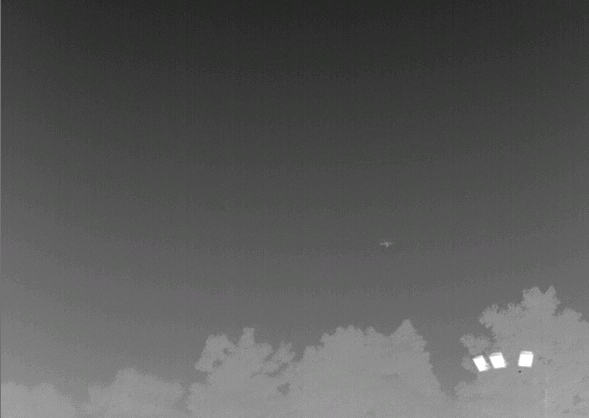dim target: (379, 239, 393, 249)
